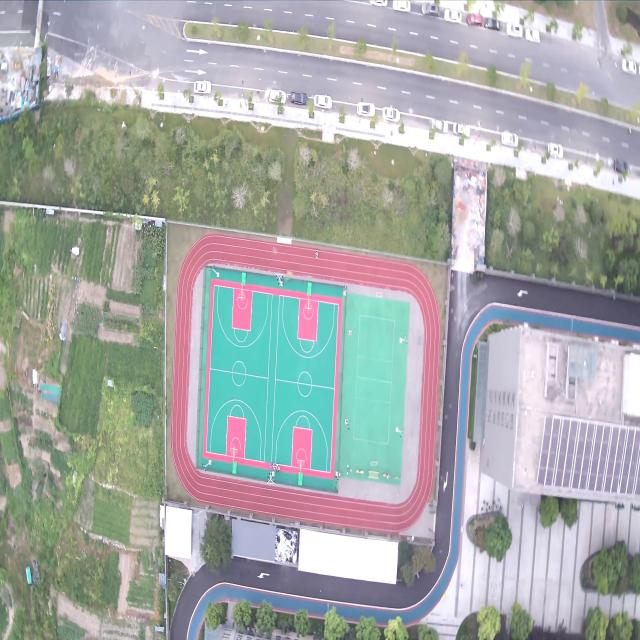UAV: (272, 246, 278, 255)
